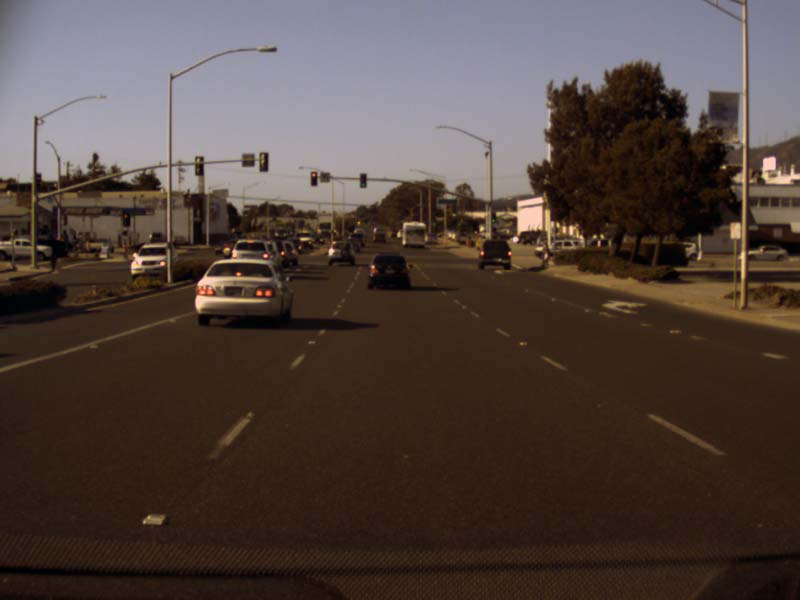Green: (359, 173, 366, 188), (490, 211, 495, 222)
Red: (310, 171, 317, 187), (122, 212, 129, 226)
